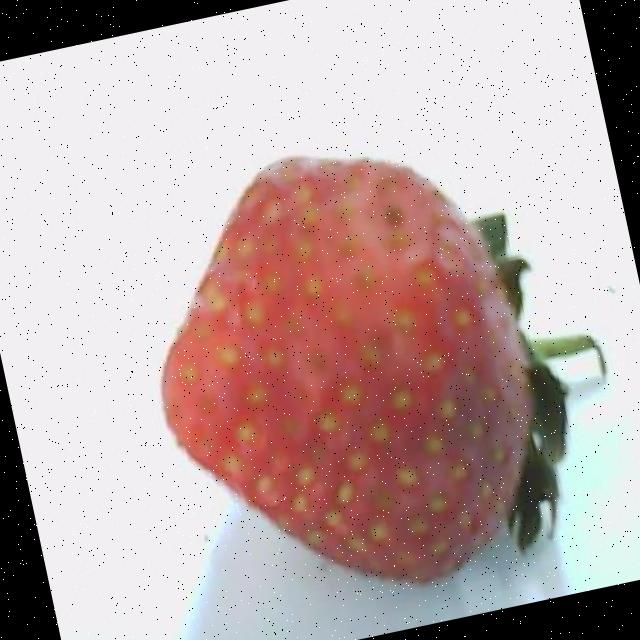strawberry: (162, 160, 596, 580)
